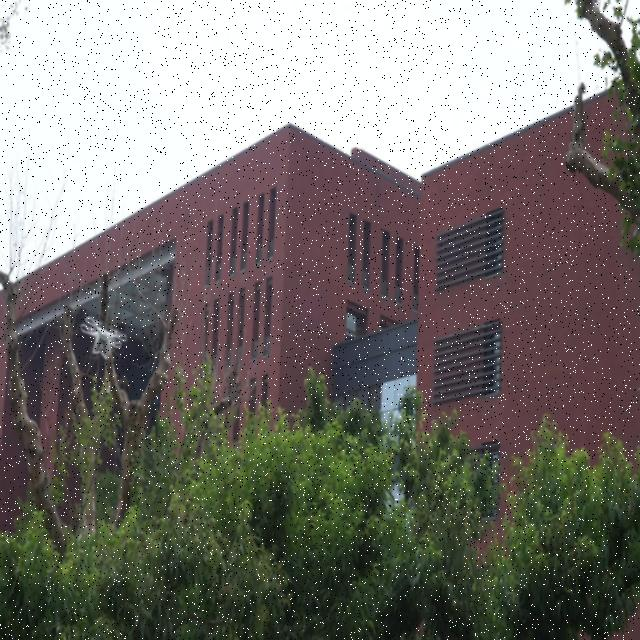UAV: (80, 316, 128, 360)
